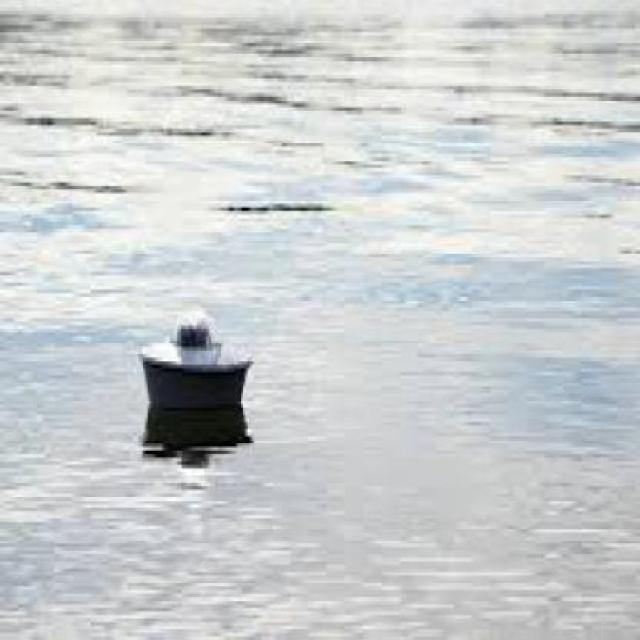buoy: (121, 294, 264, 483)
